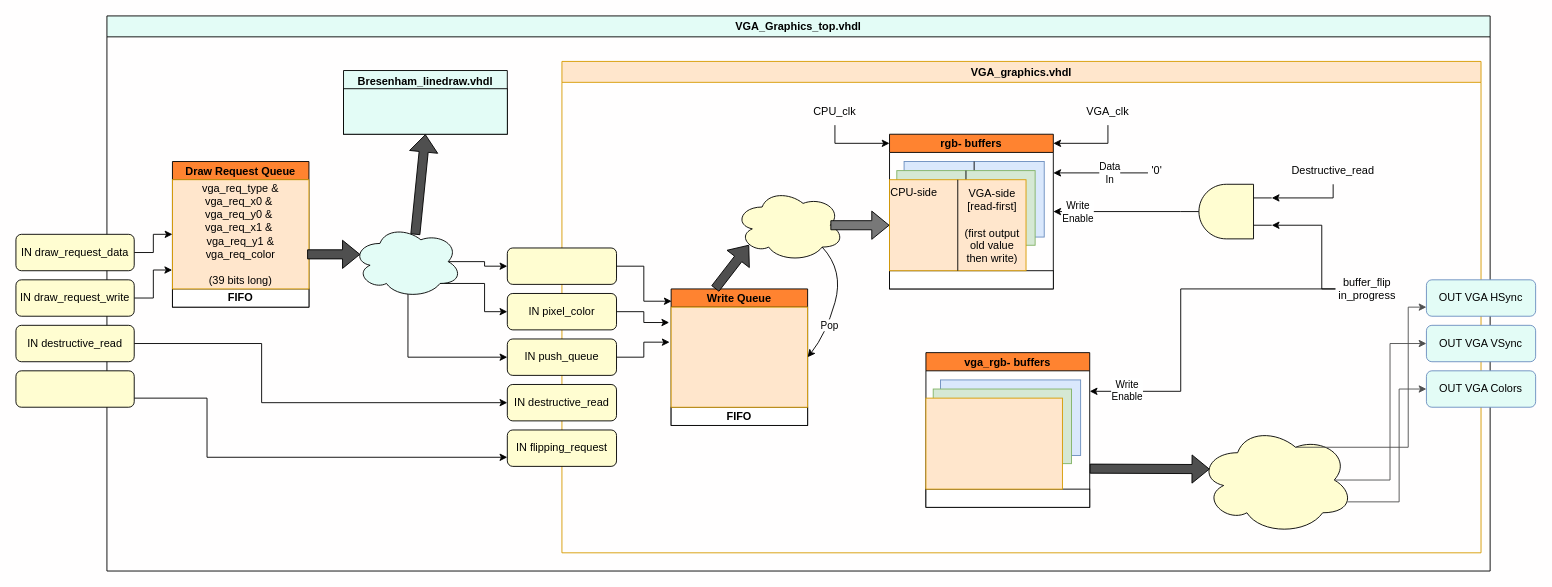
Image size: 1552x587. Some labels were removed from this diagram. Each missing label, with the centre of its shape:
AND: the point at 1226,211
IN flip_request: the point at 74,388
IN pixel_addr: the point at 561,265
pixel_addr & color 011010... & 101 . . (addr 17-bits long color 3-bits long): the point at 739,356
Ram: the point at 1007,497
True Dual Port Ram: the point at 971,279
VGA Sync signals VGA image signals: the point at 1276,480
write-first (first write then output): the point at 993,443
